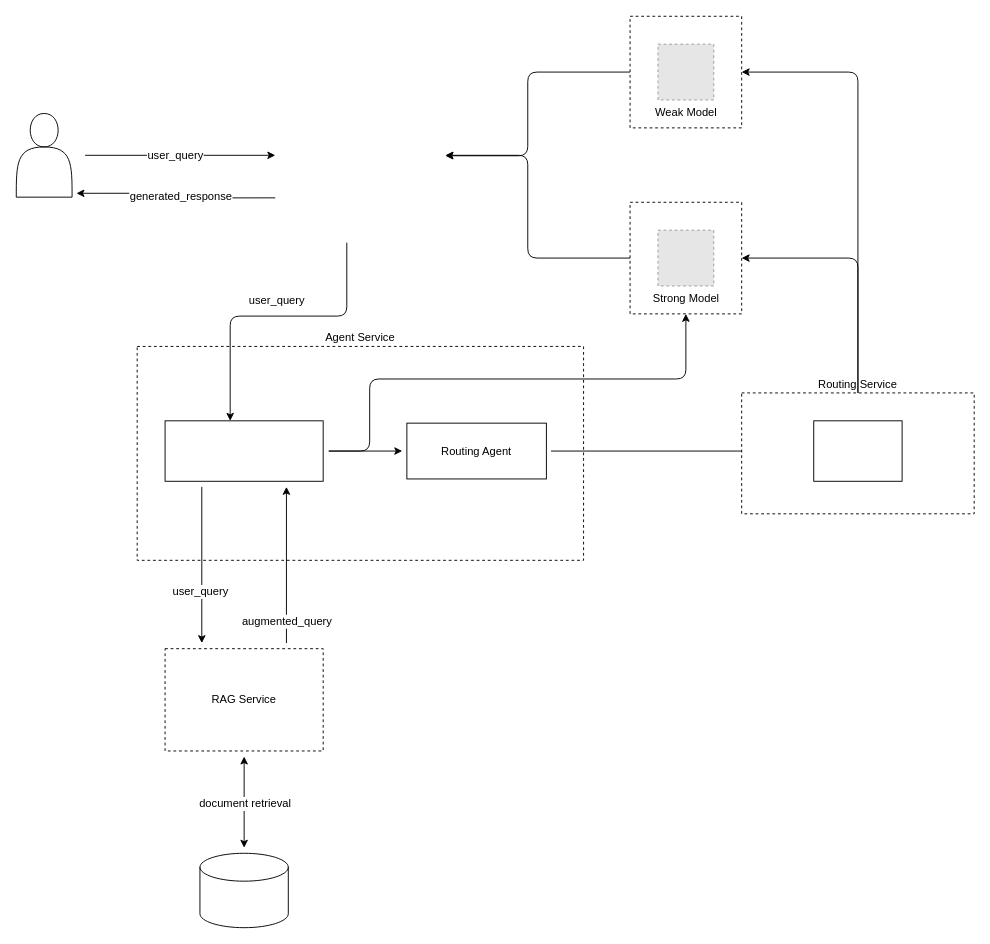
The diagram is 990 pixels wide and 944 high, and some of its shapes have lost their labels. Grey dashed boxes stand in for pictures. The centre of each missing label's shape, as x and y in pixels:
"Client" goes at point 43,155.
"RAG Agent" goes at point 243,450.
"RouteLLM" goes at point 857,450.
"Vector Store" goes at point 243,890.
